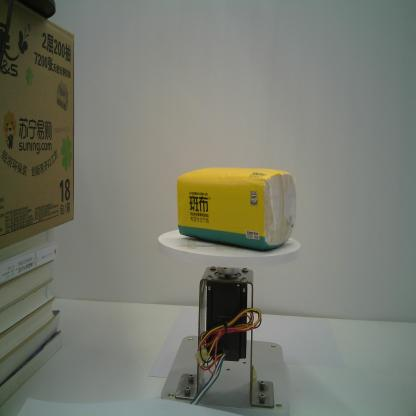Tissue: (176, 166, 297, 251)
